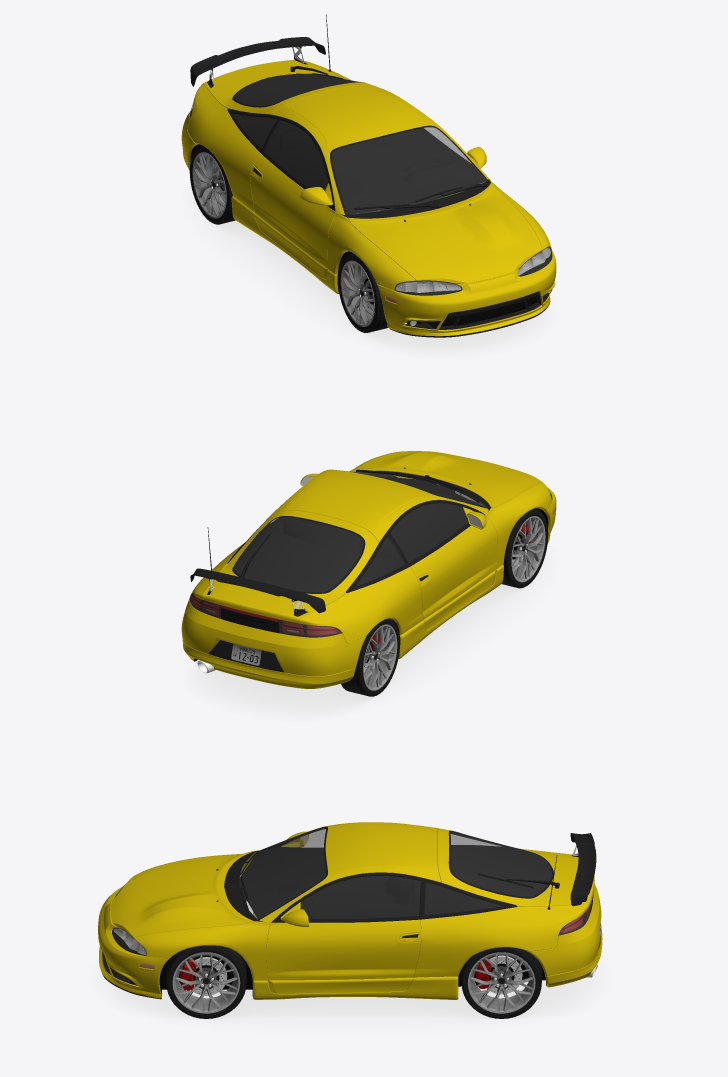
Rendered from topta.glb.
3 views of the same model, one above another, from view 1: azimuth 30°, elevation 25°; view 2: azimuth 150°, elevation 25°; view 3: azimuth 270°, elevation 25° (orthographic).
Visible parts, largest first — view 1: Body, Glass, Interior, Details, Shadow, WH_RR_Azura_Alloy_0, WH_FR_Azura_Alloy_0, WH_FR_Azura_Tire_0, WH_RR_Azura_Tire_0; view 2: Body, Glass, Interior, Shadow, Details, WH_RR_Azura_Alloy_0, WH_FR_Azura_Alloy_0, WH_RR_Azura_Tire_0, WH_FR_Azura_Tire_0; view 3: Body, Glass, Interior, Shadow, Details, WH_RL_Azura_Alloy_0, WH_FL_Azura_Alloy_0, WH_FL_Azura_Tire_0, WH_RL_Azura_Tire_0, WH_FL_Azura_Textures_0, WH_RL_Azura_Textures_0.
Part boxes in pixels (x1=…): Body: x1=181, y1=60, x2=556, y2=336; Glass: x1=191, y1=73, x2=552, y2=325; Interior: x1=233, y1=74, x2=486, y2=214; Details: x1=189, y1=14, x2=552, y2=337; Shadow: x1=187, y1=187, x2=552, y2=356; WH_RR_Azura_Alloy_0: x1=192, y1=152, x2=226, y2=218; WH_FR_Azura_Alloy_0: x1=340, y1=260, x2=374, y2=326; WH_FR_Azura_Tire_0: x1=338, y1=253, x2=388, y2=332; WH_RR_Azura_Tire_0: x1=189, y1=145, x2=235, y2=224; Body: x1=181, y1=451, x2=556, y2=688; Glass: x1=191, y1=470, x2=555, y2=635; Interior: x1=234, y1=476, x2=485, y2=592; Shadow: x1=187, y1=548, x2=552, y2=718; Details: x1=189, y1=467, x2=552, y2=673; WH_RR_Azura_Alloy_0: x1=363, y1=624, x2=397, y2=690; WH_FR_Azura_Alloy_0: x1=511, y1=516, x2=545, y2=582; WH_RR_Azura_Tire_0: x1=341, y1=618, x2=399, y2=696; WH_FR_Azura_Tire_0: x1=502, y1=509, x2=548, y2=588; Body: x1=98, y1=822, x2=602, y2=999; Glass: x1=112, y1=828, x2=593, y2=968; Interior: x1=239, y1=827, x2=551, y2=919; Shadow: x1=96, y1=961, x2=603, y2=1027; Details: x1=102, y1=826, x2=601, y2=999; WH_RL_Azura_Alloy_0: x1=468, y1=952, x2=535, y2=1013; WH_FL_Azura_Alloy_0: x1=172, y1=952, x2=240, y2=1013; WH_FL_Azura_Tire_0: x1=166, y1=945, x2=246, y2=1018; WH_RL_Azura_Tire_0: x1=461, y1=947, x2=541, y2=1018; WH_FL_Azura_Textures_0: x1=180, y1=957, x2=227, y2=995; WH_RL_Azura_Textures_0: x1=475, y1=955, x2=522, y2=994.
Bounding box in the file's own units: 2.82 × 1.18 × 4.92.
11 materials, 4 textured.
